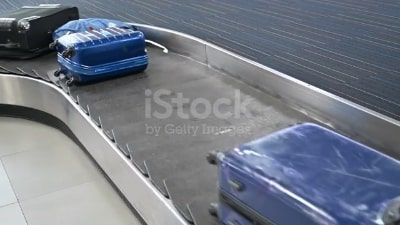baggage: (204, 119, 400, 225), (49, 28, 151, 88), (1, 1, 82, 62)
